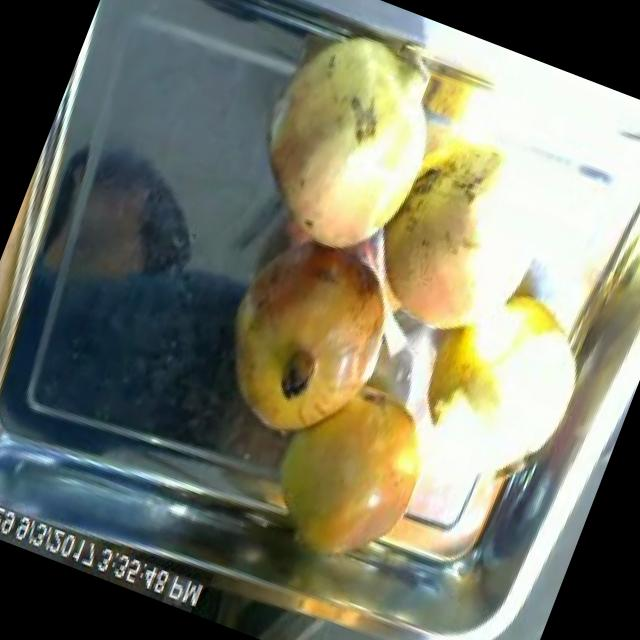fruit: (219, 0, 480, 286), (338, 96, 594, 382), (184, 196, 433, 479), (380, 242, 622, 499), (229, 347, 466, 608)
